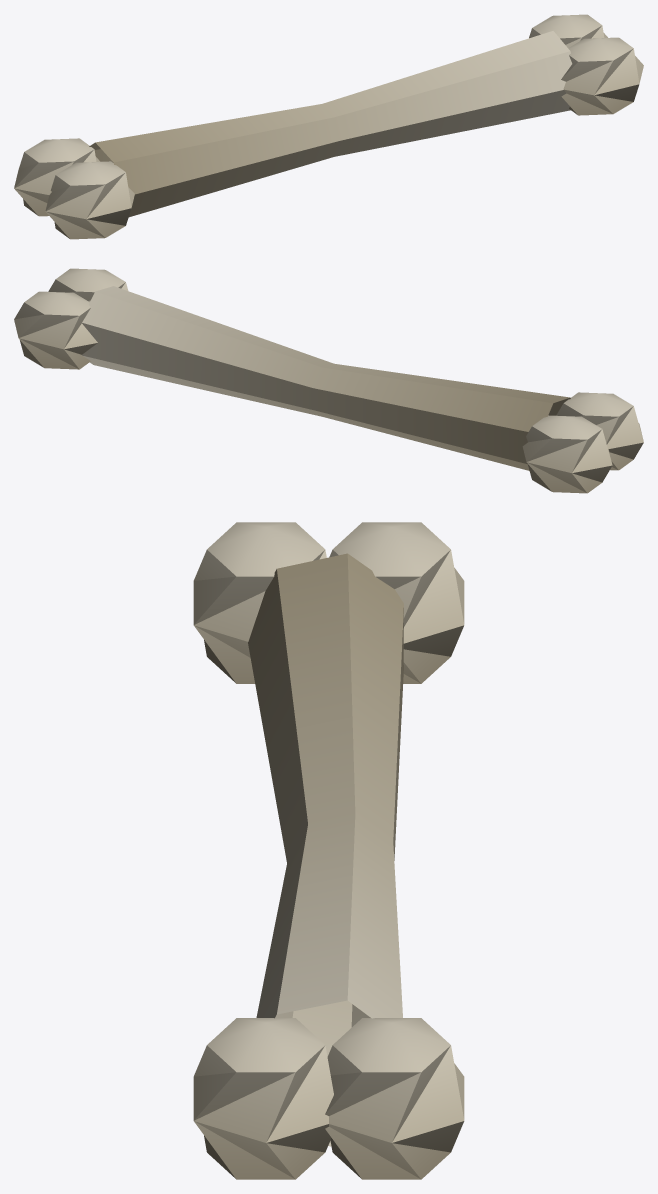
File: keep_bone.glb
The picture shows the model from 3 angles, top to bottom: view 1: azimuth 30°, elevation 25°; view 2: azimuth 150°, elevation 25°; view 3: azimuth 270°, elevation 25°; orthographic projection. The views are drawn at different scales.
Visible parts, largest first — view 1: keep_bone_trim; view 2: keep_bone_trim; view 3: keep_bone_trim.
Boxes of the visible parts, bbox=[...] form: keep_bone_trim: bbox=[14, 14, 643, 239]; keep_bone_trim: bbox=[14, 268, 643, 493]; keep_bone_trim: bbox=[193, 522, 464, 1179].
Bounding box in the file's own units: 0.99 × 0.12 × 0.1939.
